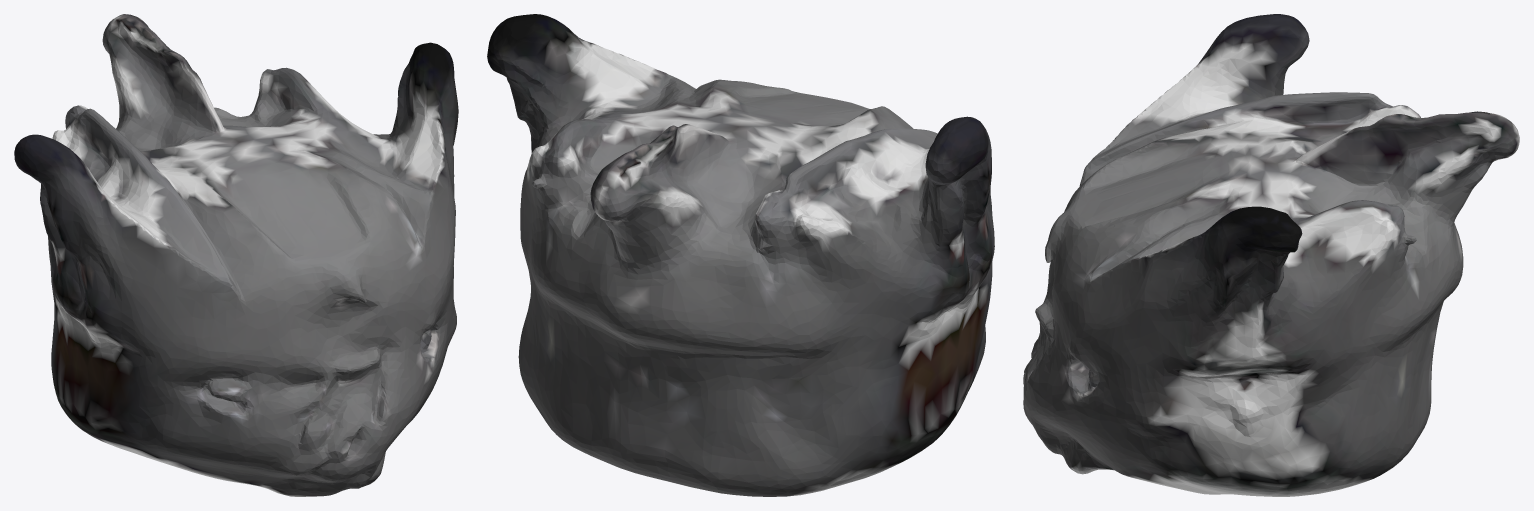
The model's file is crown_dark.glb.
3 renders of one model, left to right at view 1: azimuth 30°, elevation 25°; view 2: azimuth 150°, elevation 25°; view 3: azimuth 270°, elevation 25°, orthographic. The views are drawn at different scales.
Visible parts, largest first — view 1: geometry_0; view 2: geometry_0; view 3: geometry_0.
Boxes of the visible parts, left/top/right/bottom form: geometry_0: left=14, top=14, right=458, bottom=496; geometry_0: left=487, top=14, right=994, bottom=496; geometry_0: left=1023, top=14, right=1519, bottom=496.
Bounding box in the file's own units: 0.7188 × 0.543 × 0.7096.
